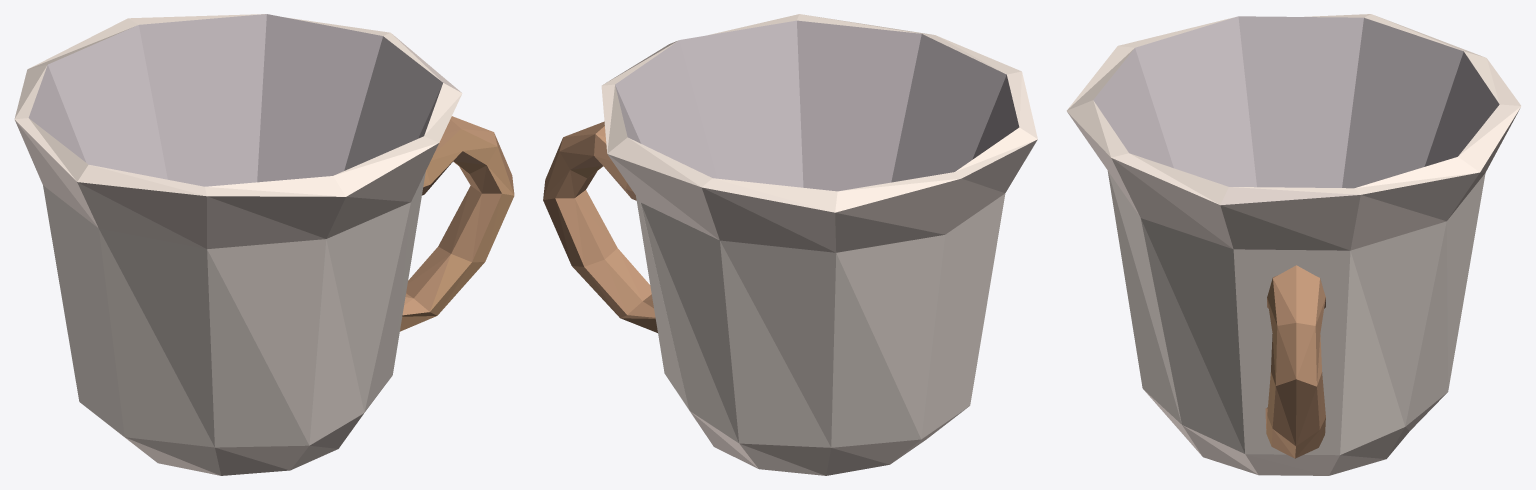
Rendered from cup_upstairs.fbx.
3 views of the same model, side by side, from view 1: azimuth 30°, elevation 25°; view 2: azimuth 150°, elevation 25°; view 3: azimuth 270°, elevation 25° (orthographic).
Visible parts, largest first — view 1: cup_upstairs; view 2: cup_upstairs; view 3: cup_upstairs.
Boxes of the visible parts, bbox=[...] form: cup_upstairs: bbox=[14, 14, 514, 475]; cup_upstairs: bbox=[543, 14, 1037, 475]; cup_upstairs: bbox=[1066, 14, 1521, 475].
Size of the model in its own units: 8.95 by 6 by 7.55.
